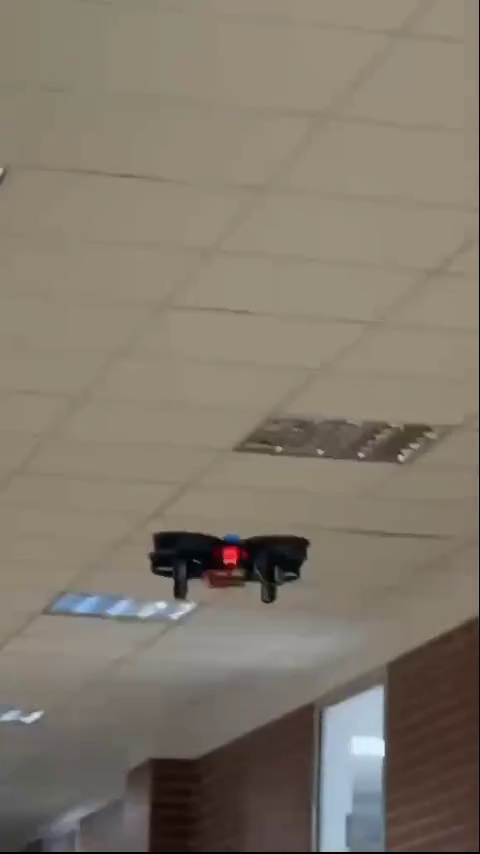drone: (153, 530, 307, 607)
